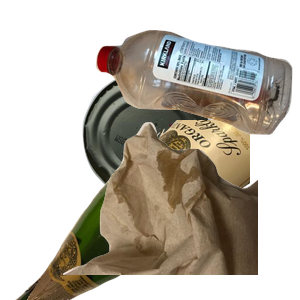glass: (13, 120, 253, 300)
metal: (80, 68, 284, 248)
plastic: (93, 27, 300, 154)
trash: (60, 120, 300, 300)
